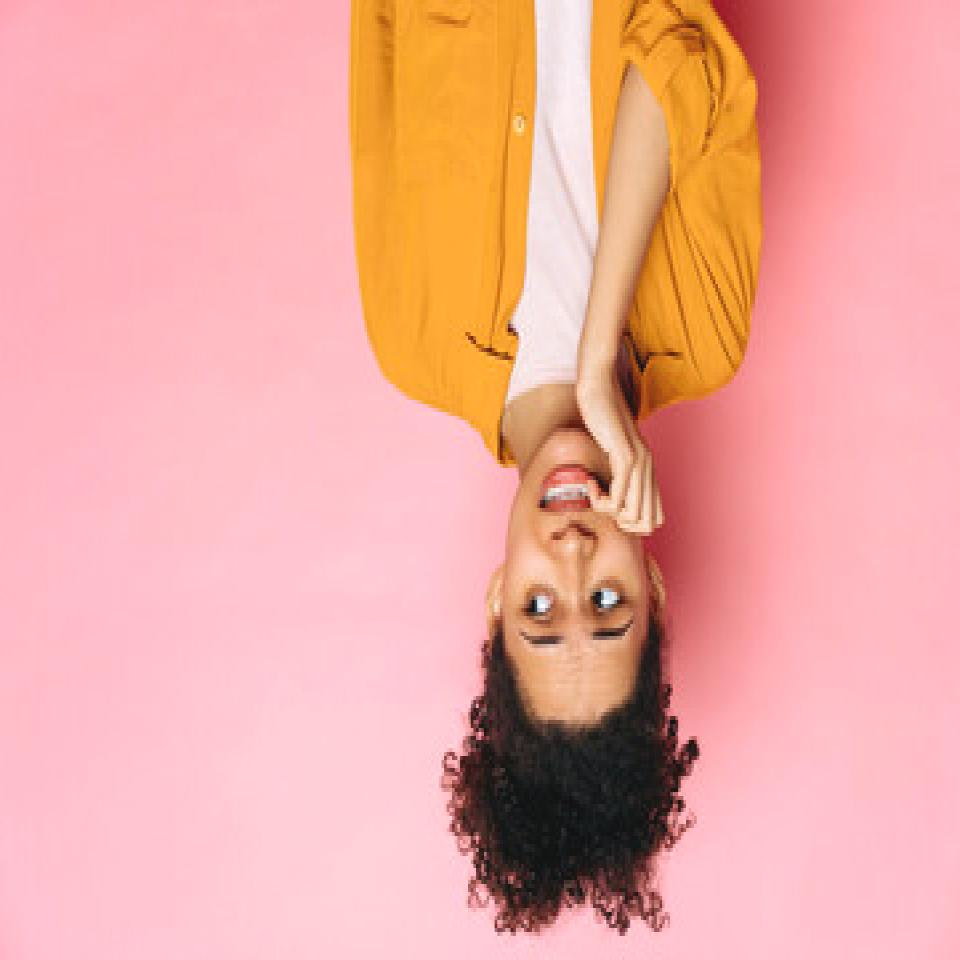Scared: (498, 430, 660, 716)
